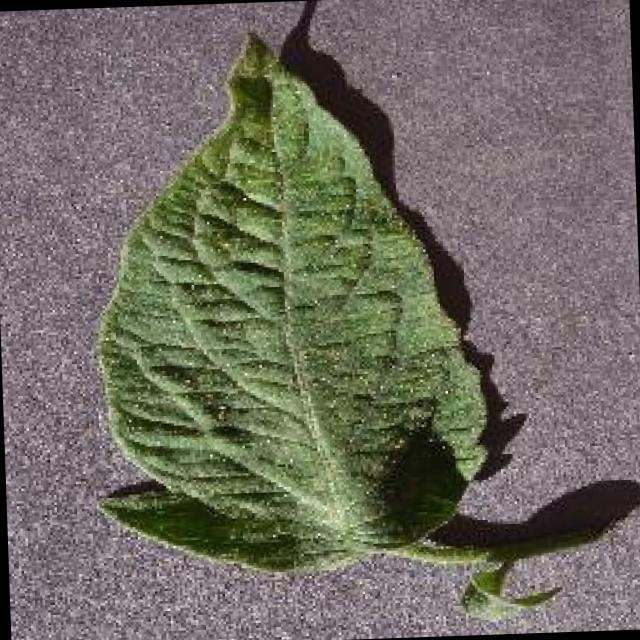Tomato_Healthy: (73, 17, 550, 604)
